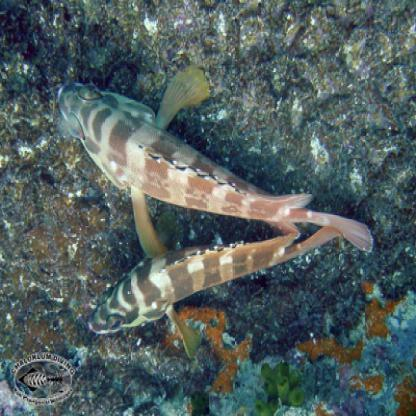Serranidae -Groupers-: (53, 65, 374, 255), (83, 225, 342, 358)
